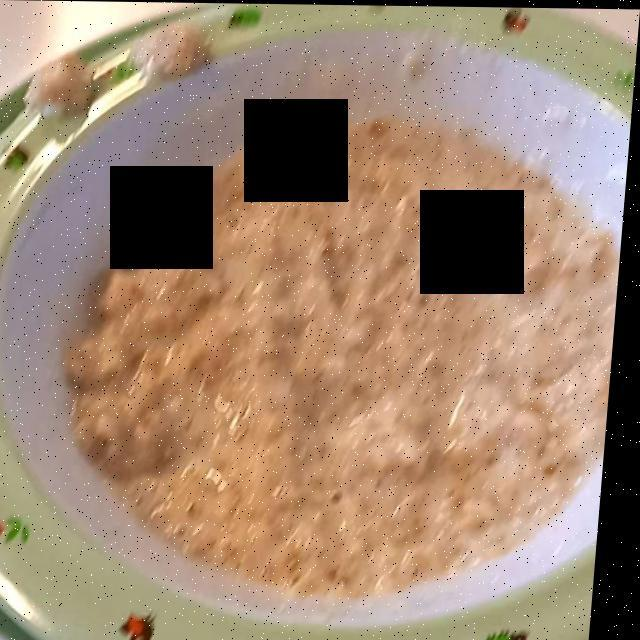porridge: (81, 119, 615, 603)
